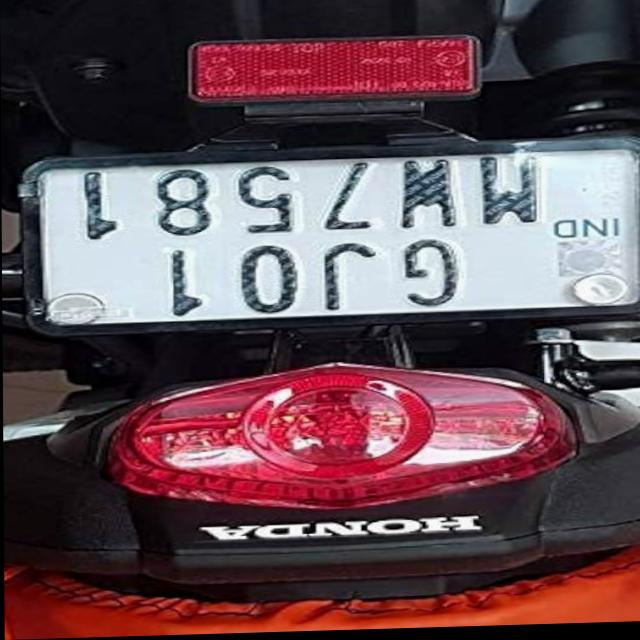0: (223, 246, 307, 316)
1: (148, 248, 209, 317), (68, 172, 121, 242)
5: (233, 167, 303, 234)
7: (319, 166, 384, 235)
8: (144, 169, 222, 237)
g: (390, 239, 471, 311)
j: (311, 242, 376, 312)
m: (463, 157, 551, 230)
w: (390, 164, 462, 233)
